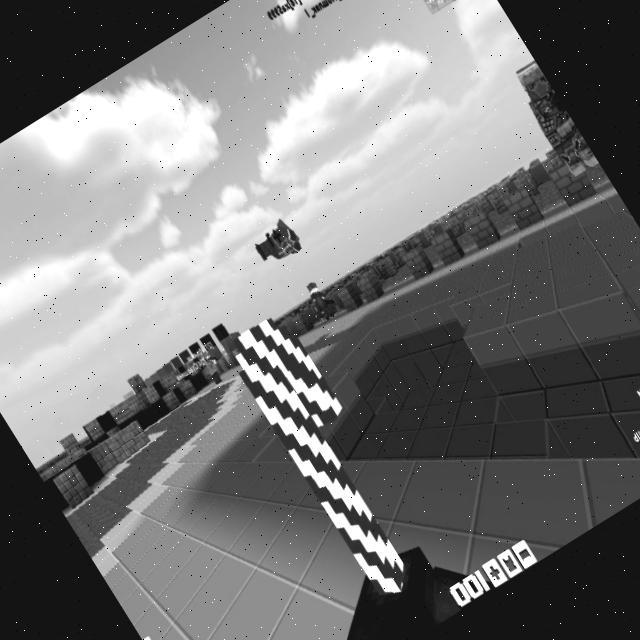Head: (514, 59, 554, 104), (304, 279, 322, 298), (199, 348, 214, 362)
Player: (503, 55, 602, 186), (298, 271, 344, 325), (194, 346, 232, 392)
